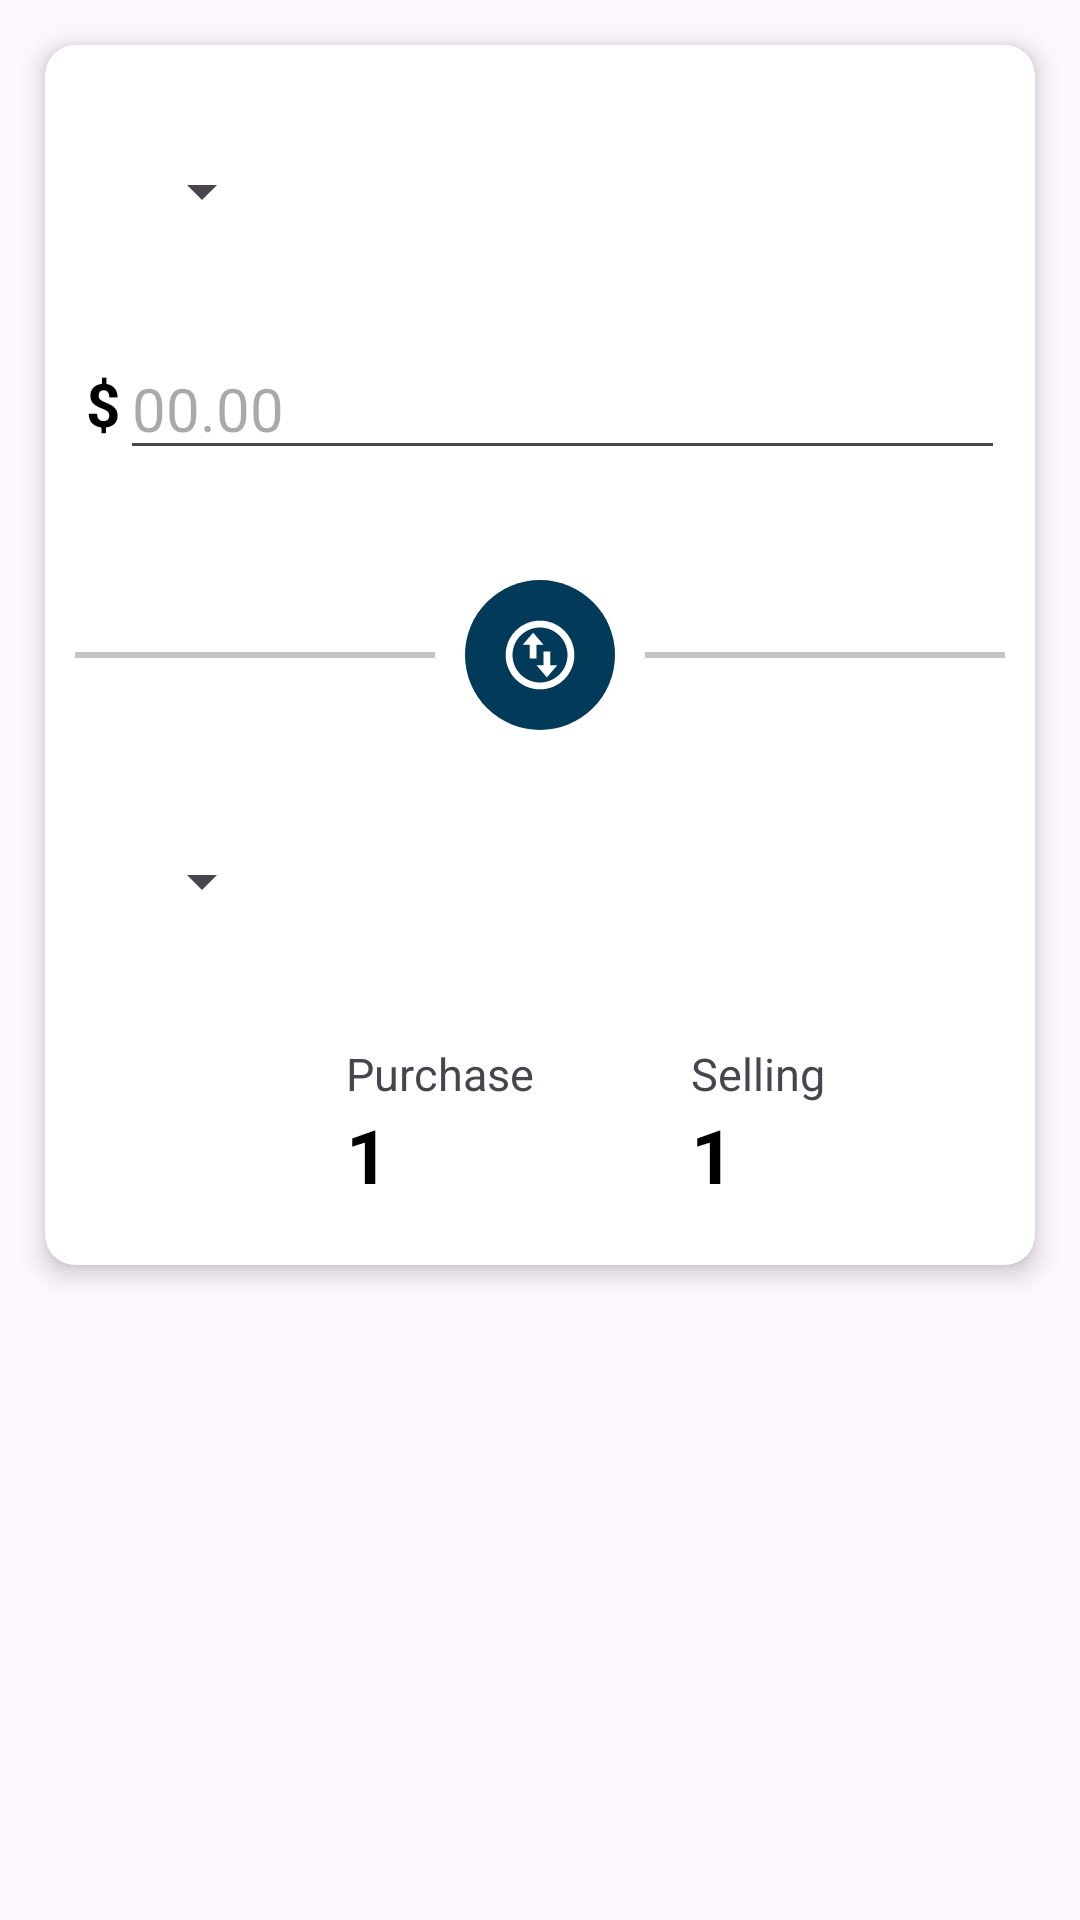

Icon click points for this 1080×1920 phone screenshot, format [x,y]:
change: [540,655]
